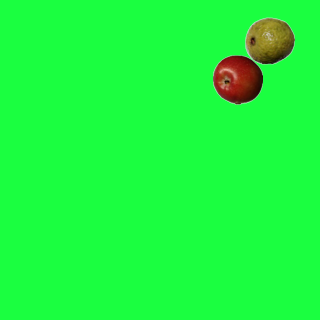Apple Braeburn: (212, 54, 262, 104)
Guava: (244, 15, 294, 65)
